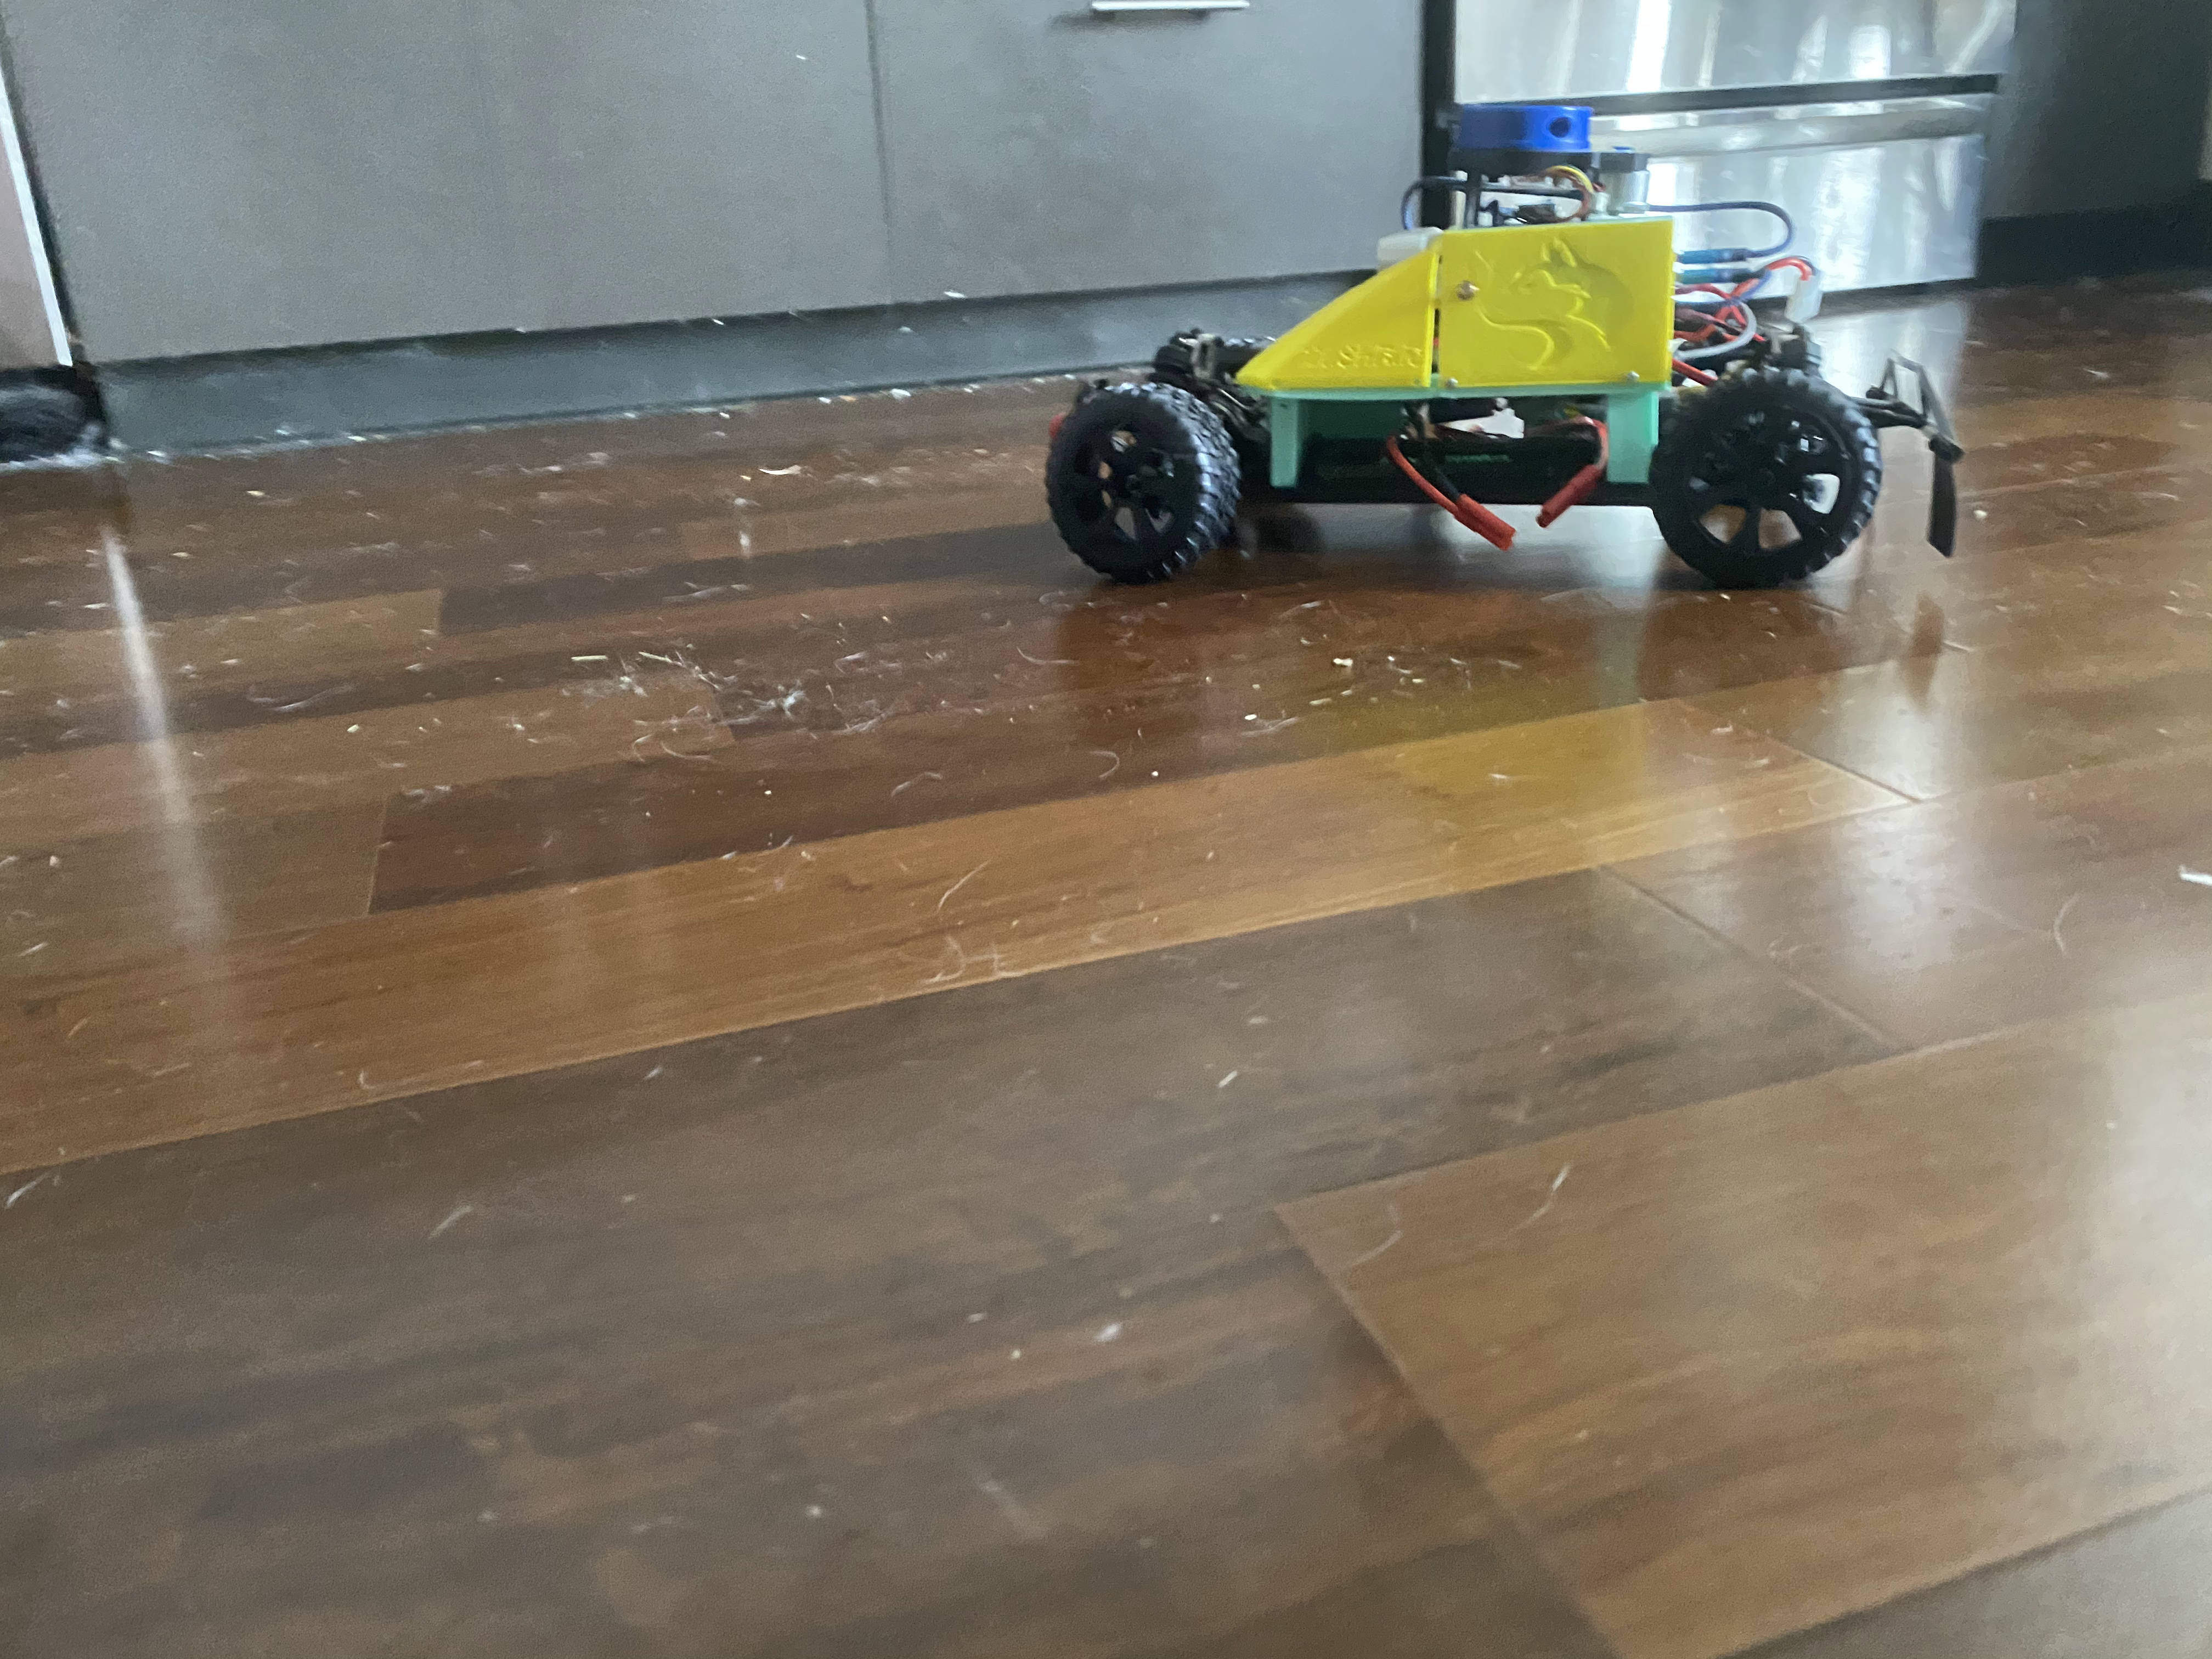mushr_car: (996, 80, 1991, 619)
